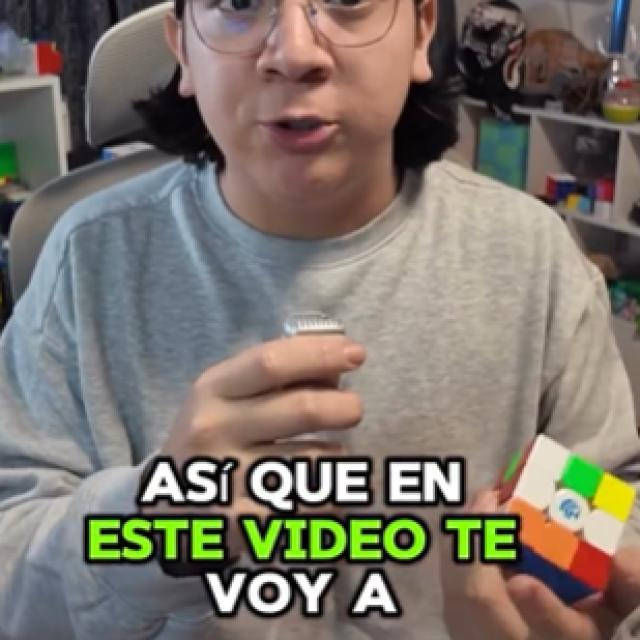Cubo-No-resuelto: (497, 435, 634, 601)
